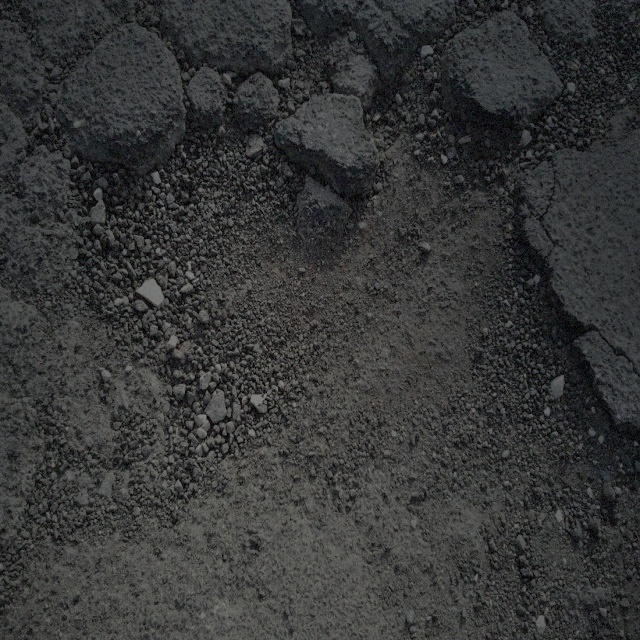pothole: (43, 51, 590, 472)
